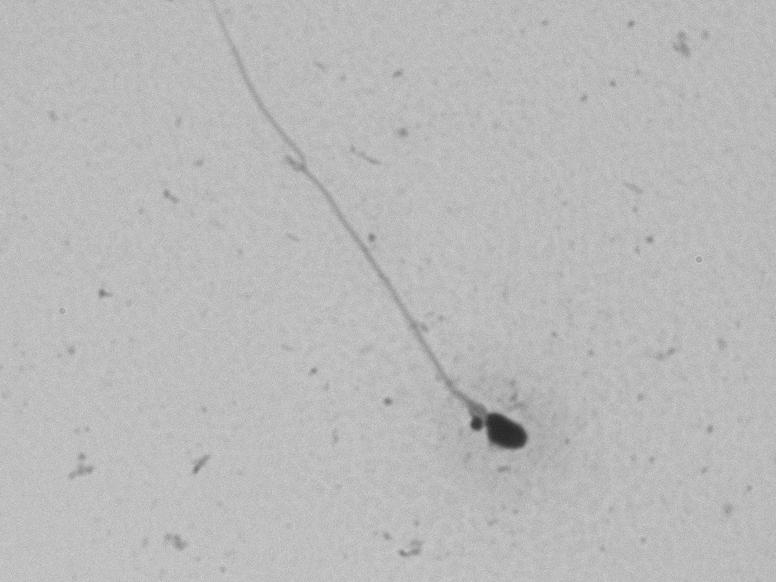Abnormal: (192, 103, 556, 474)
